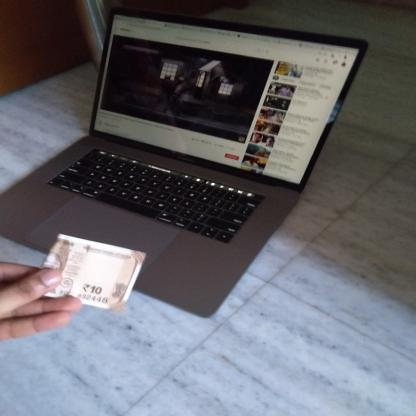New10Front: (41, 237, 138, 306)
